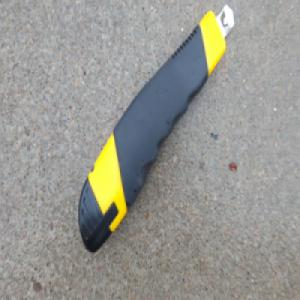Cutter: (78, 2, 235, 253)
